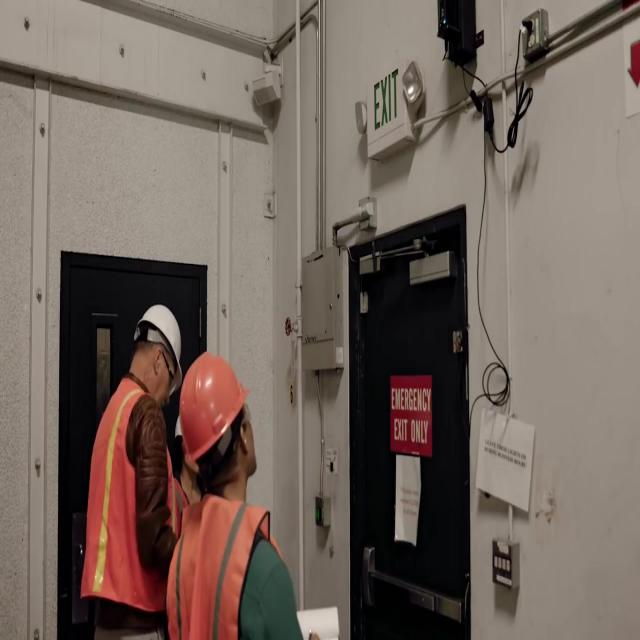Reflective-Jacket: (70, 370, 178, 628), (160, 488, 286, 640)
Safety-Helmet: (172, 344, 260, 474), (126, 294, 190, 382)
